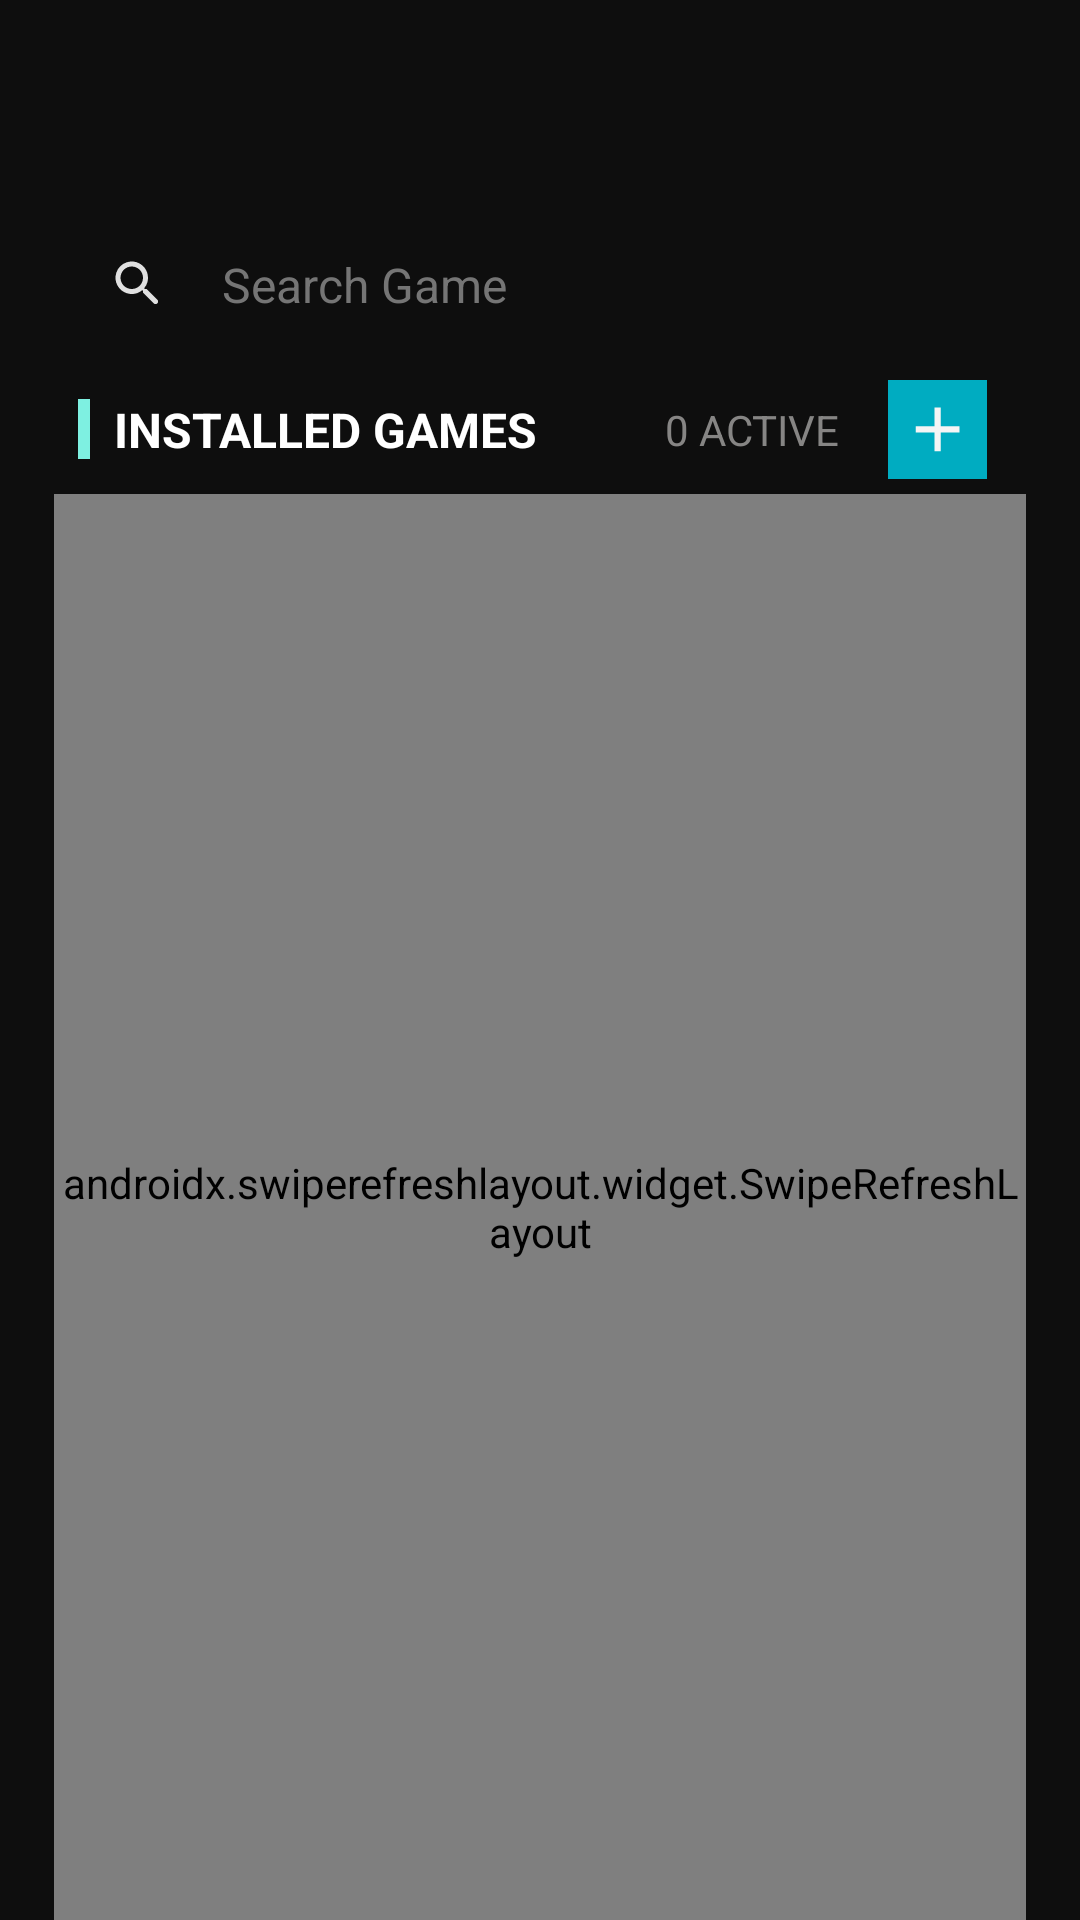

Screen size 1080*1920. Icon name, then its box in pixels as (x1, y1, x2, y2):
plus: (915, 407, 960, 452)
search round: (115, 261, 158, 304)
